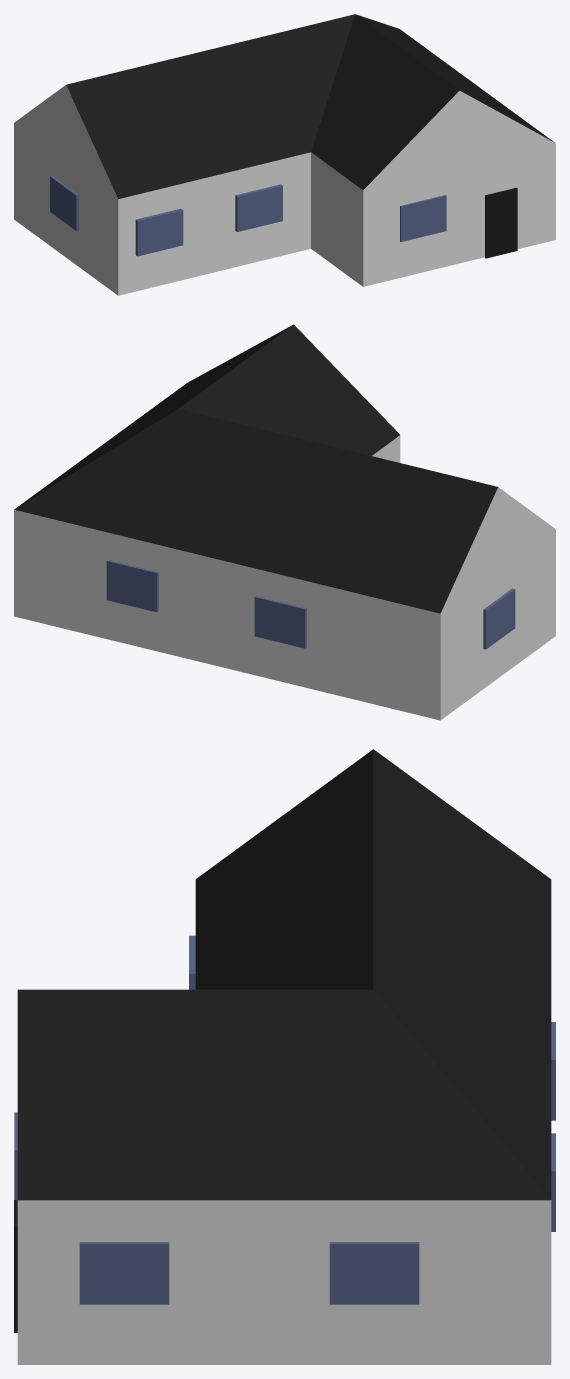
Rendered from House1.fbx.
3 renders of one model, top to bottom at view 1: azimuth 30°, elevation 25°; view 2: azimuth 150°, elevation 25°; view 3: azimuth 270°, elevation 25°, orthographic. The views are drawn at different scales.
Visible parts, largest first — view 1: Cube.319; view 2: Cube.319; view 3: Cube.319.
Boxes of the visible parts, left/top/right/bottom form: Cube.319: left=14, top=14, right=555, bottom=295; Cube.319: left=14, top=324, right=555, bottom=720; Cube.319: left=14, top=749, right=555, bottom=1364.
Size of the model in its own units: 1296 by 550 by 914.
